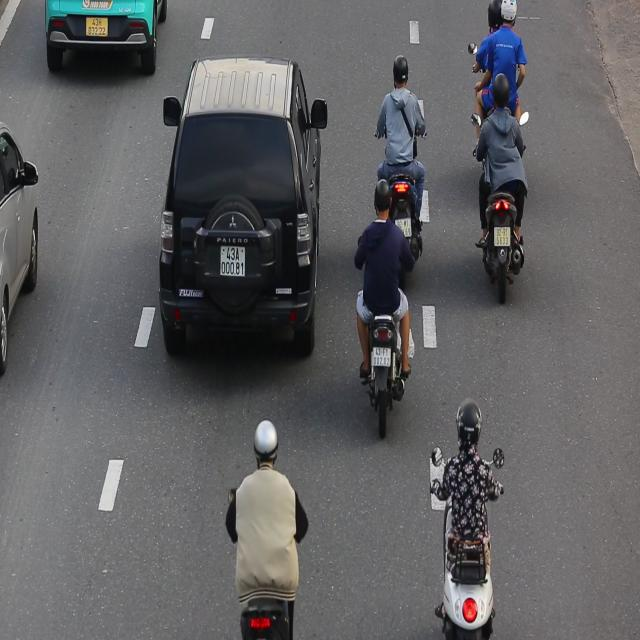motorbike: (421, 387, 506, 640), (350, 170, 417, 441), (473, 72, 533, 303)
